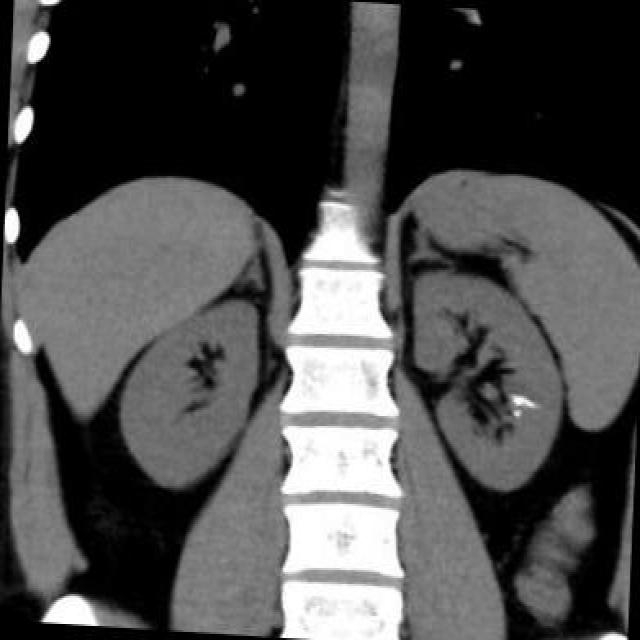Tas_Var: (522, 397, 539, 411), (510, 395, 524, 407), (510, 409, 521, 419)
